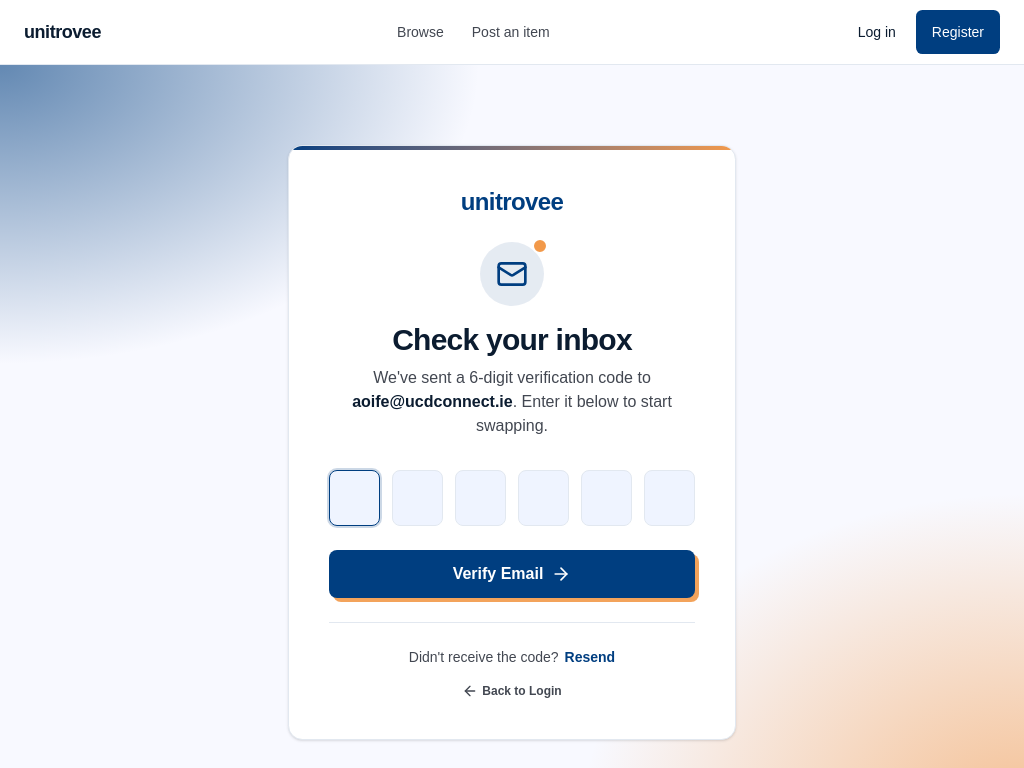
Test: VerifyEmailPage › explains when the verification code is invalid or expired
Type "1" into the field named "Verification code digit 1" at (354, 498), box [329,470,380,526]
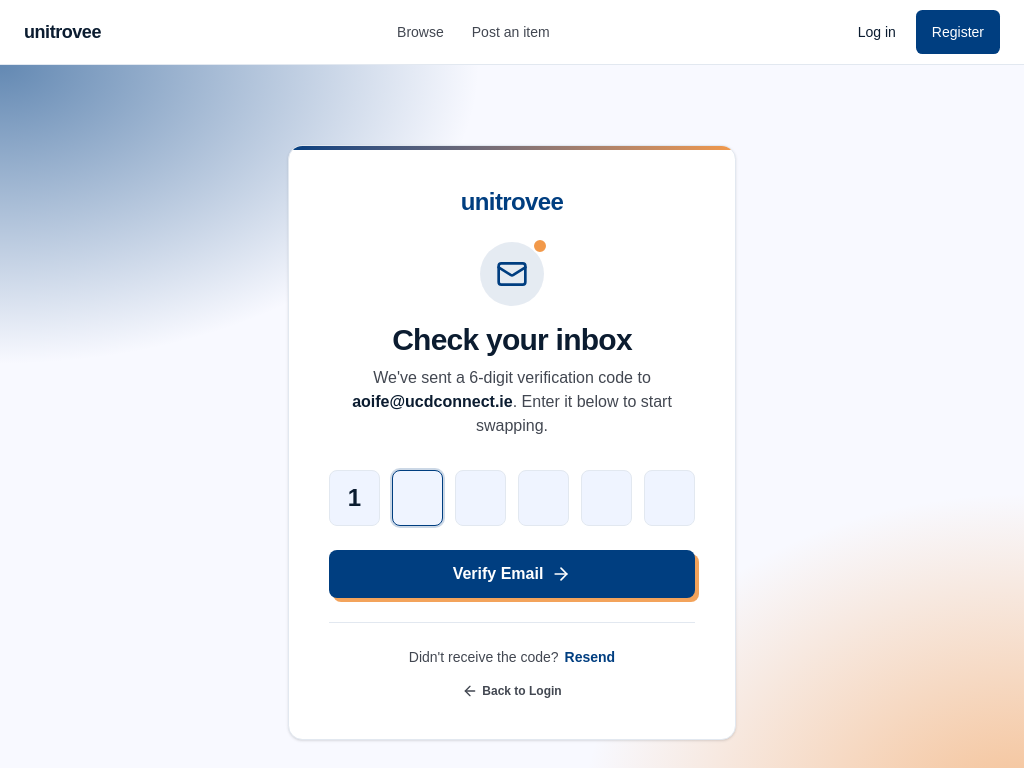
Type "2" into the field named "Verification code digit 2" at (418, 498), box [392,470,443,526]
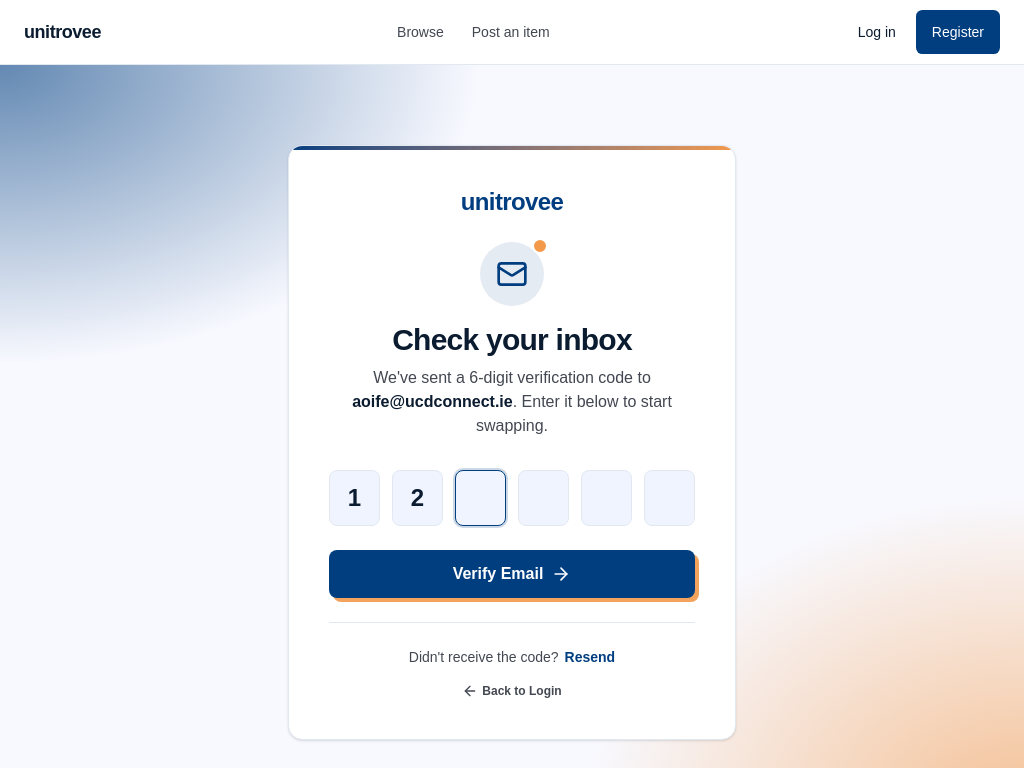
Type "3" into the field named "Verification code digit 3" at (480, 498), box [455,470,506,526]
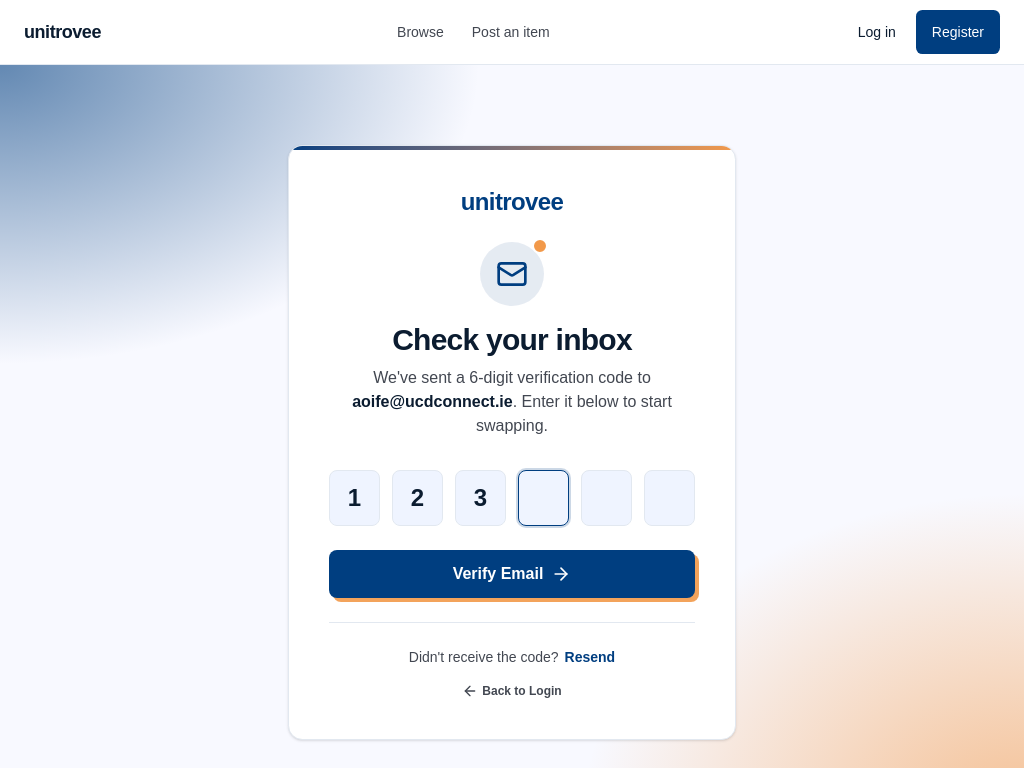
Type "4" into the field named "Verification code digit 4" at (544, 498), box [518,470,569,526]
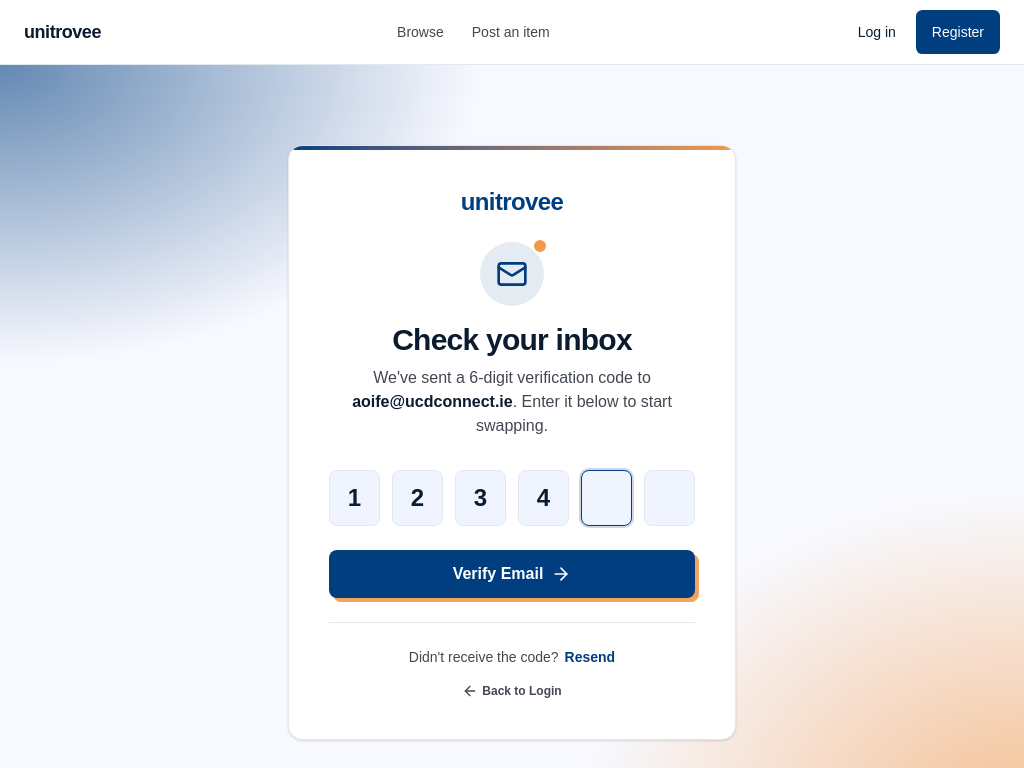
Type "5" into the field named "Verification code digit 5" at (606, 498), box [581,470,632,526]
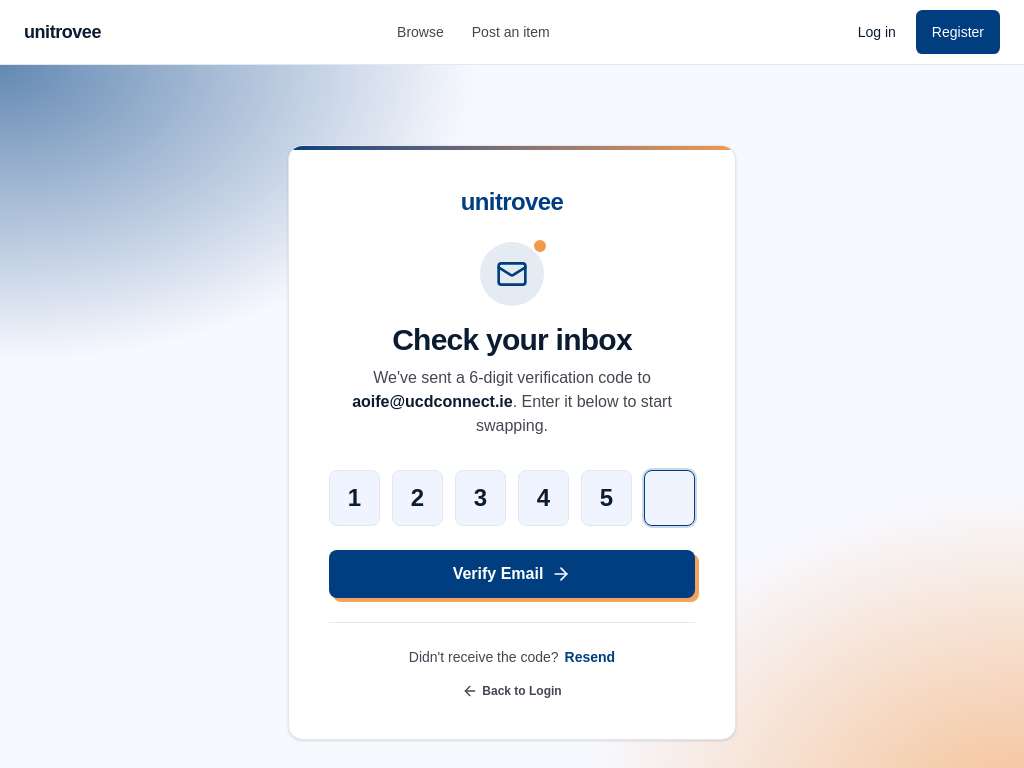
Type "6" into the field named "Verification code digit 6" at (670, 498), box [644,470,695,526]
Click the button "Verify Email" at (512, 574), box [329,550,695,598]
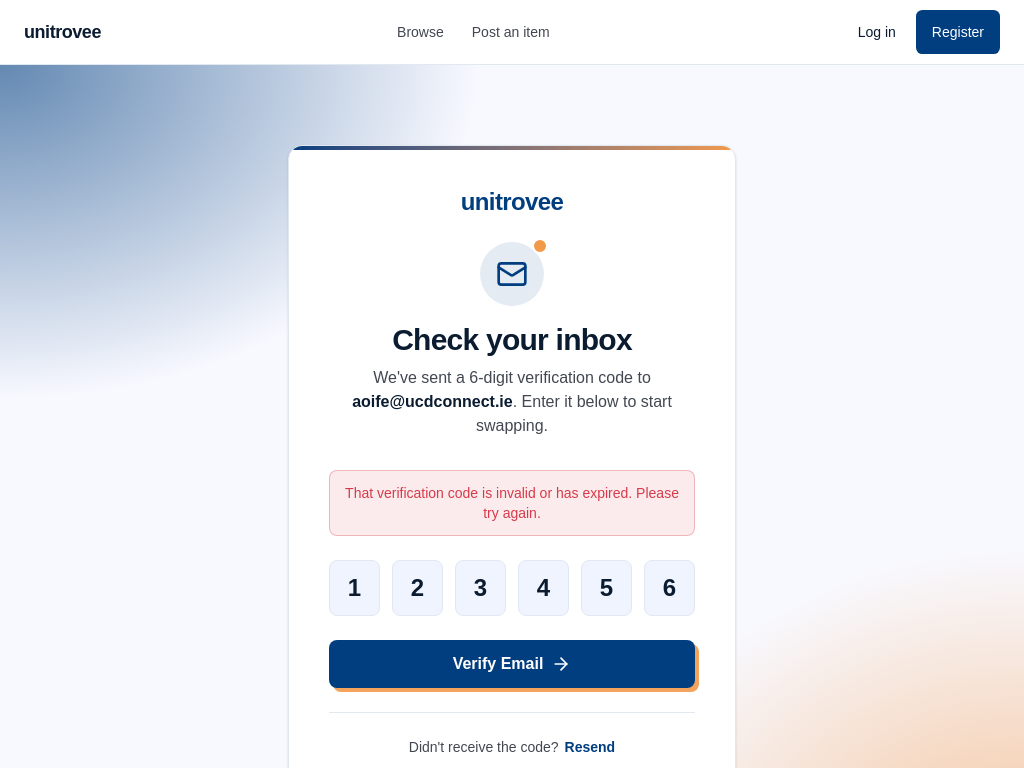
Result: the message reads "That verification code is invalid or has expired. Please try again." at [345,485,679,521]
